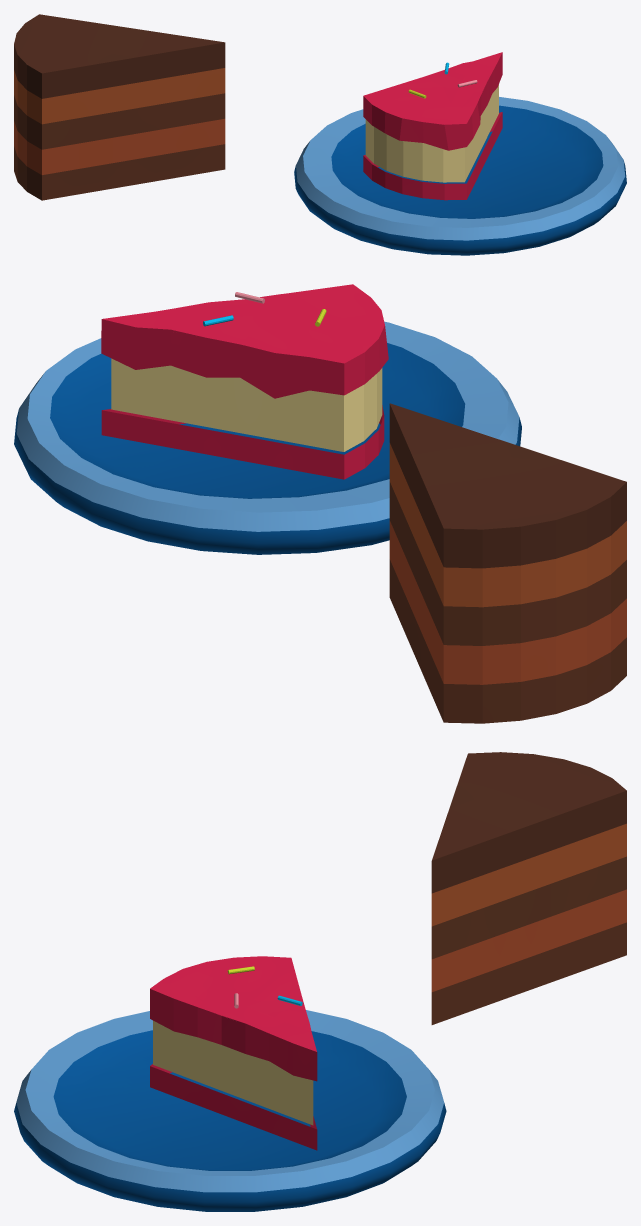
File: Cakes.fbx
3 views of the same model, one above another, from view 1: azimuth 30°, elevation 25°; view 2: azimuth 150°, elevation 25°; view 3: azimuth 270°, elevation 25° (orthographic). The views are drawn at different scales.
Visible parts, largest first — view 1: Circle.047, Circle.049, Circle.046, Circle.050, Circle.051, Circle.053, Circle.054, Circle.052, Circle.048, Circle.056, Circle.055; view 2: Circle.049, Circle.050, Circle.046, Circle.047, Circle.056, Circle.052, Circle.054, Circle.051, Circle.053, Circle.048, Circle.055; view 3: Circle.047, Circle.046, Circle.049, Circle.050, Circle.048, Circle.056, Circle.051, Circle.053, Circle.052, Circle.054, Circle.055.
Part boxes in pixels (x1,y1,x2,y2): Circle.047: [331, 105, 603, 218]; Circle.049: [14, 14, 225, 98]; Circle.046: [296, 97, 625, 240]; Circle.050: [363, 52, 502, 150]; Circle.051: [14, 144, 225, 200]; Circle.053: [14, 93, 225, 149]; Circle.054: [14, 68, 225, 124]; Circle.052: [14, 118, 225, 174]; Circle.048: [294, 160, 626, 255]; Circle.056: [365, 84, 498, 182]; Circle.055: [363, 112, 502, 200]; Circle.049: [389, 403, 626, 568]; Circle.050: [101, 284, 388, 398]; Circle.046: [16, 321, 519, 531]; Circle.047: [50, 343, 465, 498]; Circle.056: [111, 358, 382, 451]; Circle.052: [389, 520, 626, 684]; Circle.054: [389, 443, 626, 607]; Circle.051: [389, 559, 626, 723]; Circle.053: [389, 481, 626, 645]; Circle.048: [14, 409, 521, 554]; Circle.055: [101, 405, 384, 479]; Circle.047: [53, 1030, 406, 1170]; Circle.046: [16, 1010, 444, 1192]; Circle.049: [431, 752, 626, 893]; Circle.050: [150, 956, 317, 1081]; Circle.048: [14, 1103, 446, 1211]; Circle.056: [153, 1020, 313, 1125]; Circle.051: [431, 922, 626, 1024]; Circle.053: [431, 856, 626, 959]; Circle.052: [431, 889, 626, 991]; Circle.054: [431, 823, 626, 926]; Circle.055: [150, 1064, 317, 1150].
Size of the model in its own units: 3525 by 913 by 3057.
1 material, 1 textured.
